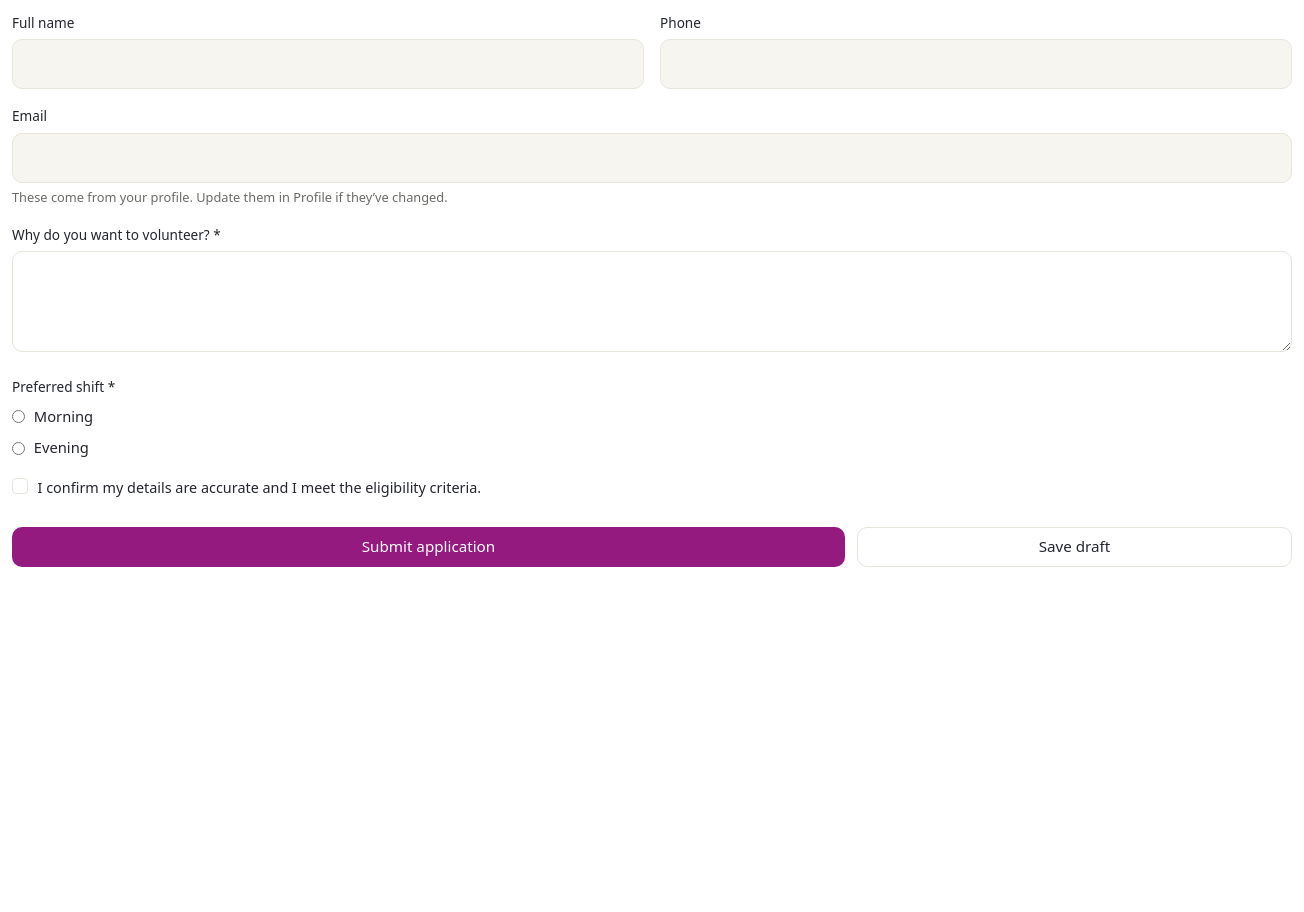
Scenario: ApplyForm (dynamic) › surfaces a server error message when the submission fails
Type "I want to help." into the text box labelled "Why do you want to volunteer? *".
click(652, 302); type("I want to help.")  # box top-left (12, 251), bottom-right (1292, 352)
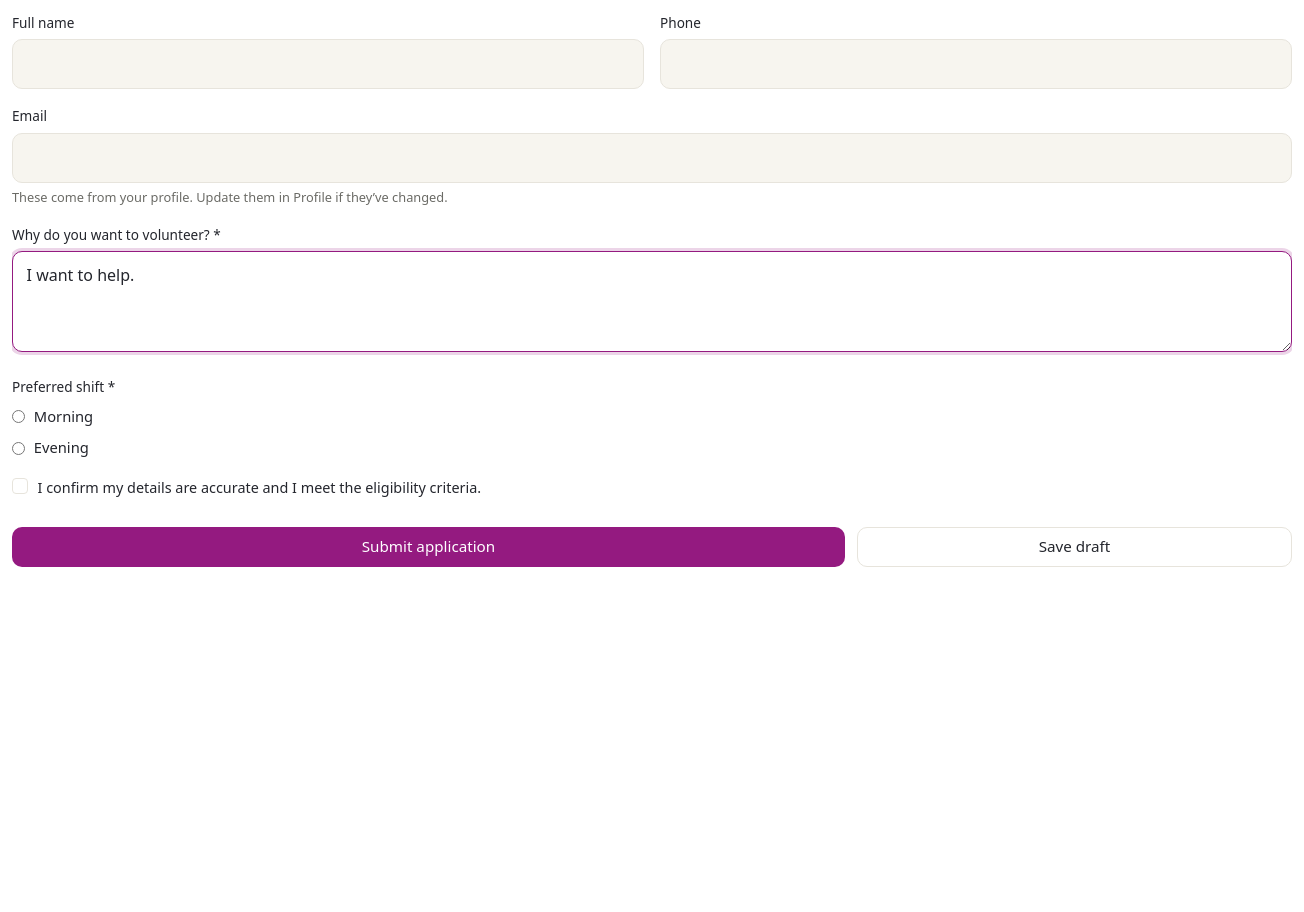
Click the radio button labelled "Morning".
click(18, 417)  # box top-left (12, 410), bottom-right (25, 423)
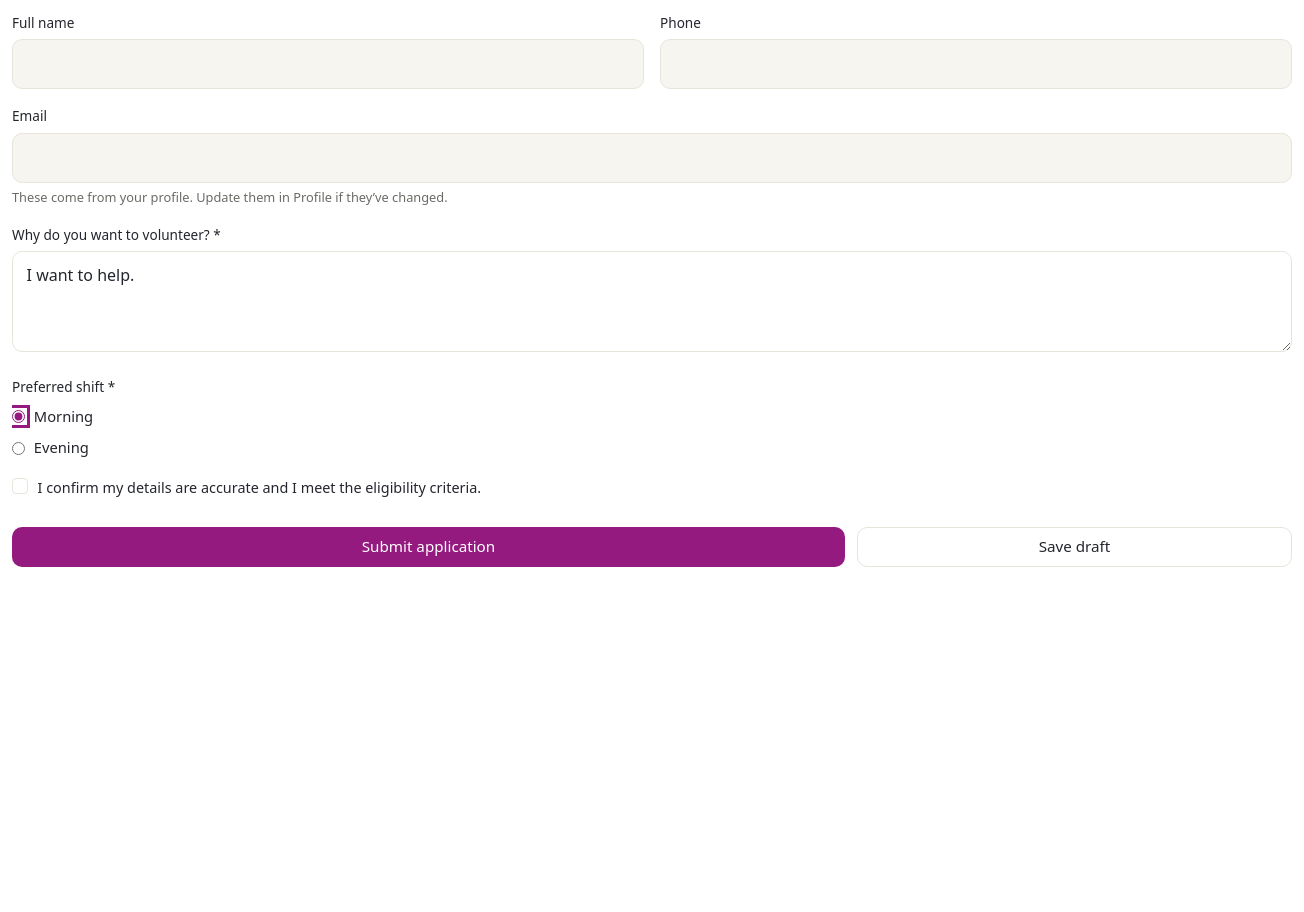
Click the checkbox labelled "I confirm my details are accurate and I meet the eligibility criteria.".
click(20, 486)  # box top-left (12, 478), bottom-right (28, 494)
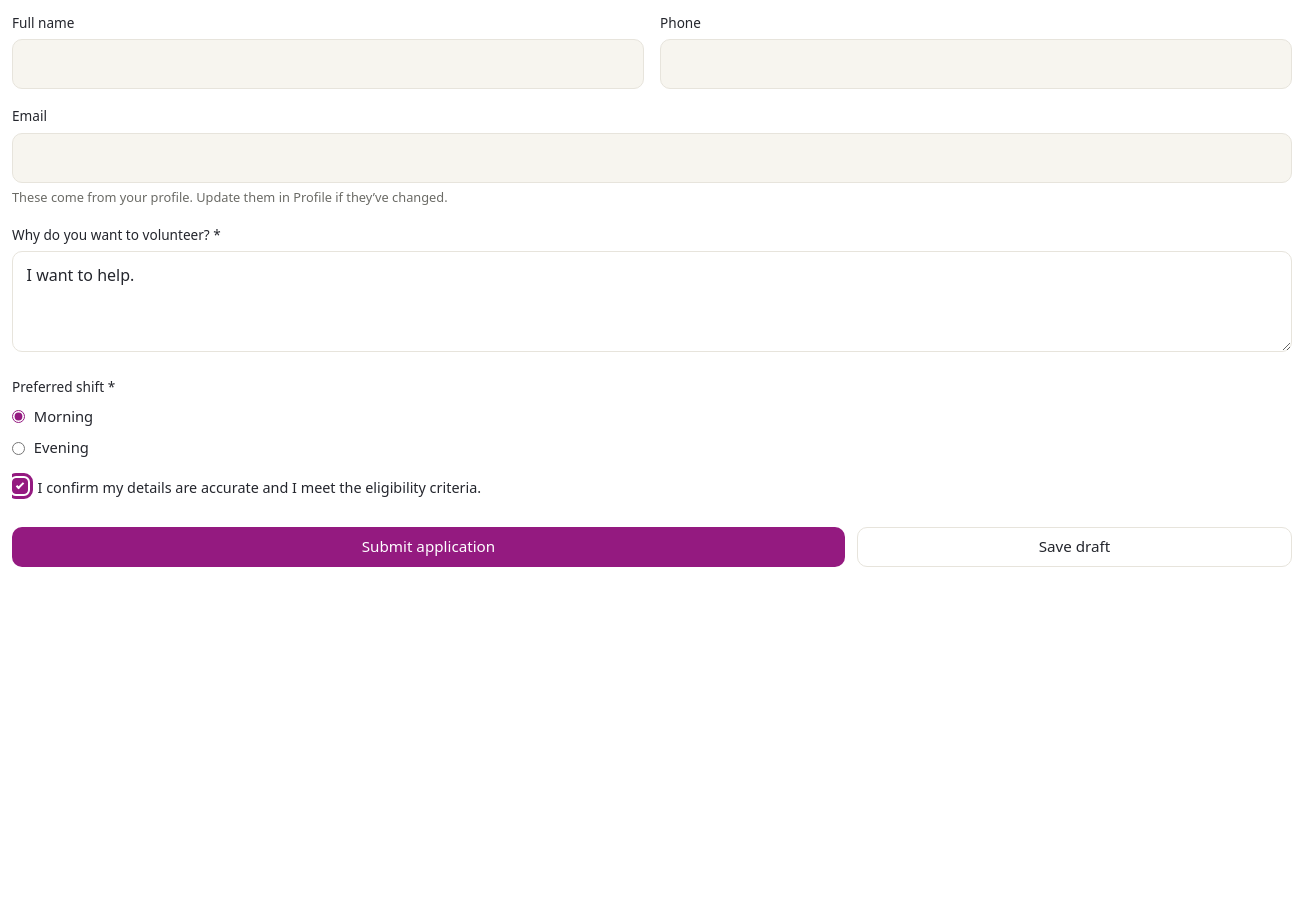
Click the button "Submit application".
click(428, 547)  # box top-left (12, 527), bottom-right (845, 567)
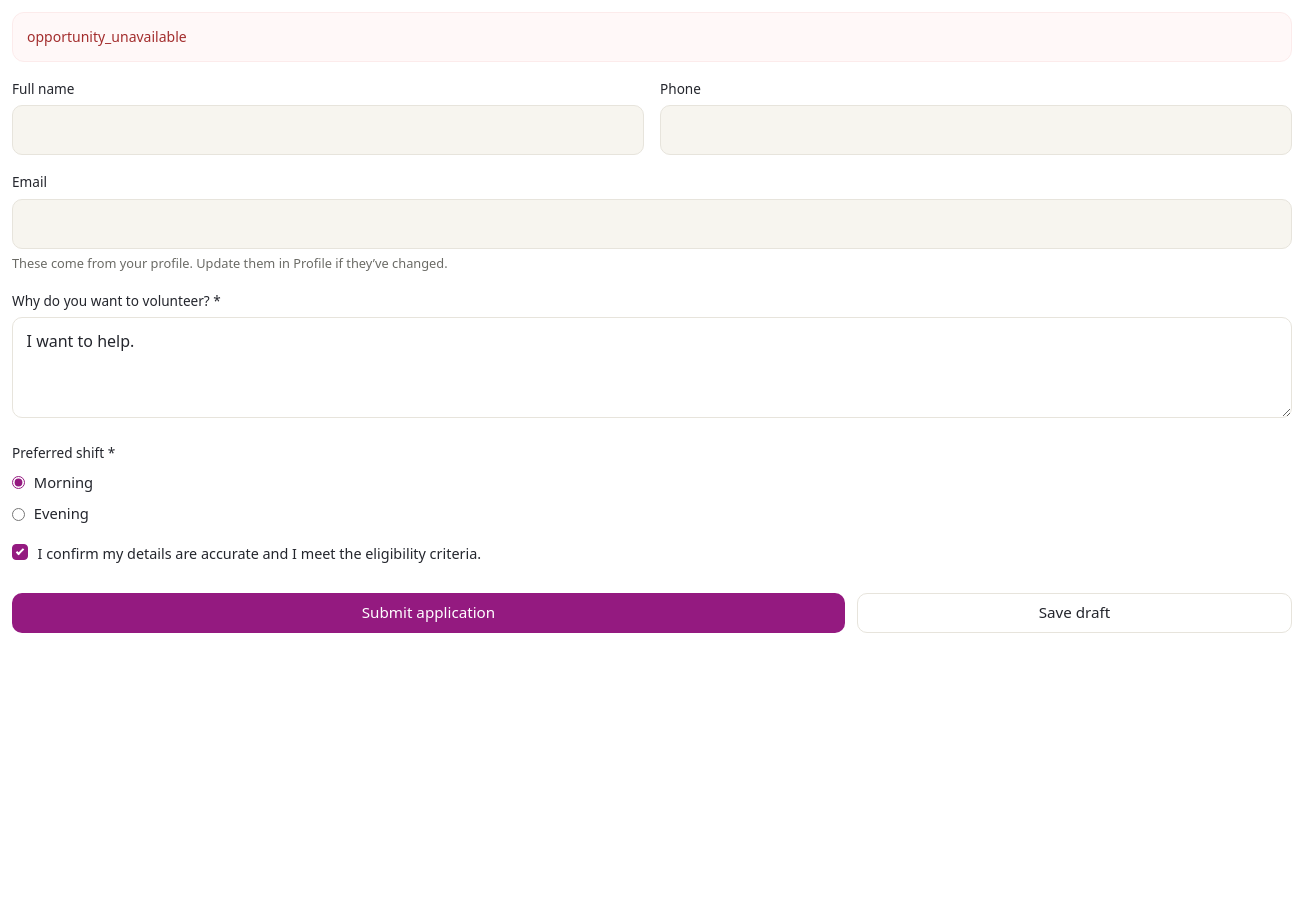
Check: the text "opportunity_unavailable" is shown, box top-left (12, 12), bottom-right (1292, 62)
